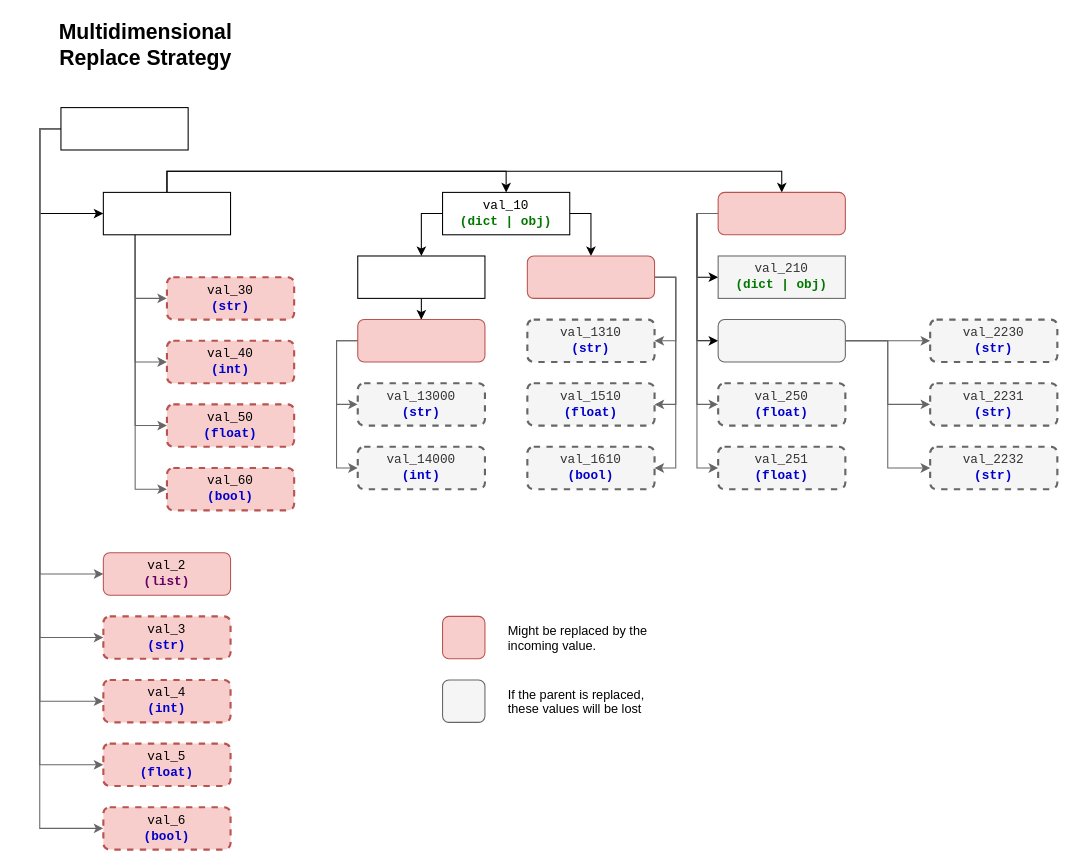
This 1076x868 diagram has some shape labels left out. The centre of each missing label's shape, as x and y in pixels:
ConfigStore Object: [124,128]
val_1 (dict | obj): [166,213]
val_110 (dict | obj): [421,276]
val_1200 (list): [421,340]
val_121 (list): [590,276]
val_20 (list): [781,213]
val_220 (list): [781,340]
